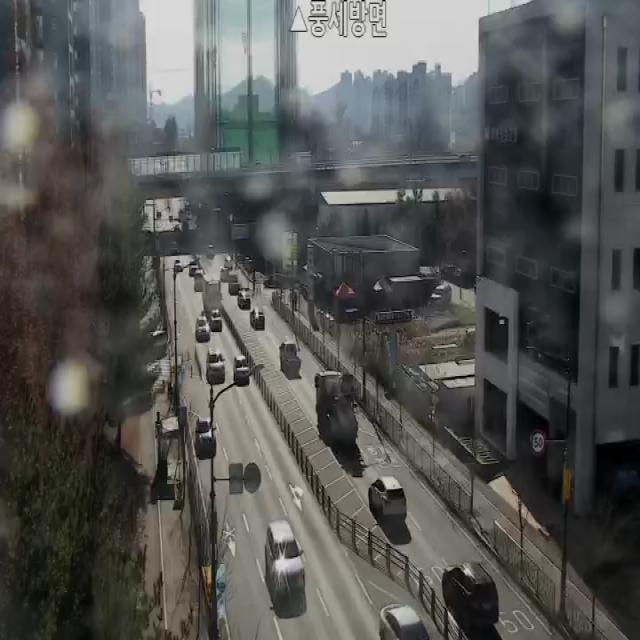Car: (441, 563, 499, 631), (264, 520, 305, 596), (379, 602, 430, 640), (368, 476, 407, 524), (195, 418, 218, 458), (280, 341, 302, 379), (206, 347, 226, 384), (233, 355, 249, 386), (430, 284, 452, 304), (196, 315, 210, 342), (250, 308, 265, 330), (209, 309, 222, 332), (238, 292, 252, 310)
Truck: (315, 367, 359, 449)
